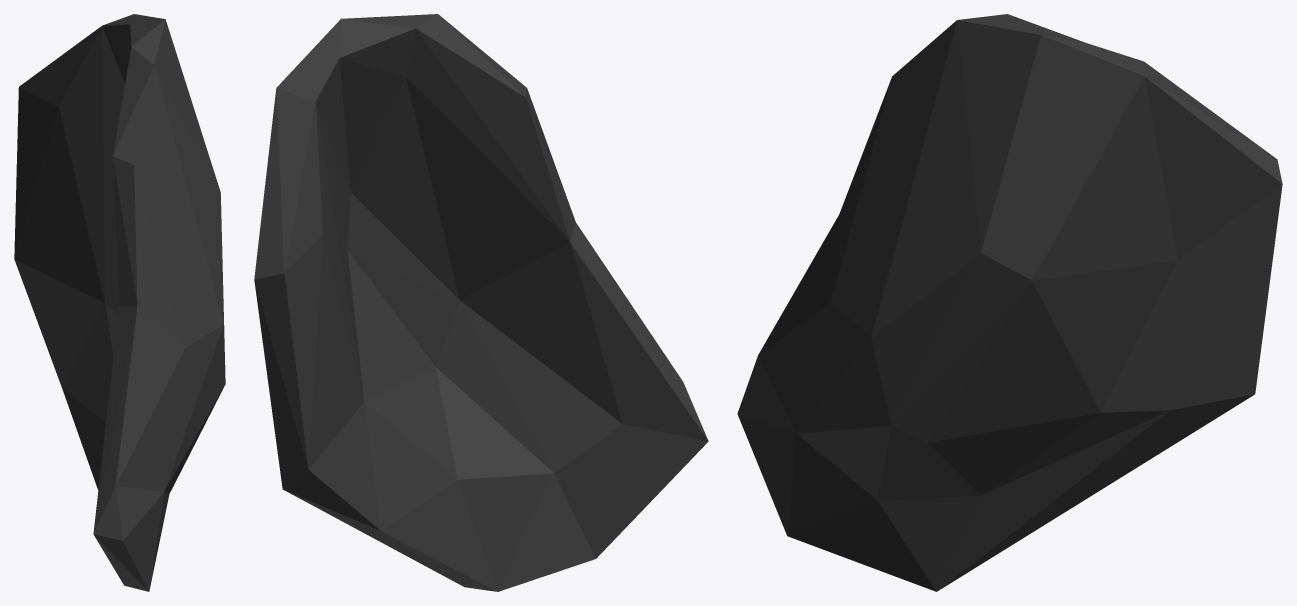
Rendered from Femur_supracondylar_tuberosity.glb.
The picture shows the model from 3 angles, left to right: view 1: azimuth 30°, elevation 25°; view 2: azimuth 150°, elevation 25°; view 3: azimuth 270°, elevation 25°; orthographic projection. The views are drawn at different scales.
Visible parts, largest first — view 1: Femur_supracondylar_tuberosity; view 2: Femur_supracondylar_tuberosity; view 3: Femur_supracondylar_tuberosity.
Boxes of the visible parts, x1,y1,x2,y2 form: Femur_supracondylar_tuberosity: (14, 14, 225, 591); Femur_supracondylar_tuberosity: (254, 14, 708, 591); Femur_supracondylar_tuberosity: (737, 14, 1282, 591).
Bounding box in the file's own units: 0.00894 × 0.0185 × 0.0154.
Materials: 1 (1 with a texture image).
